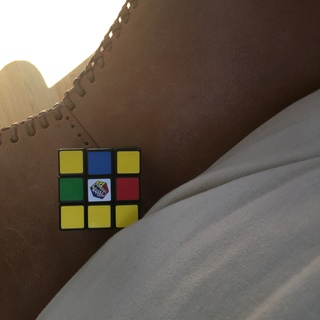face: (57, 147, 139, 229)
